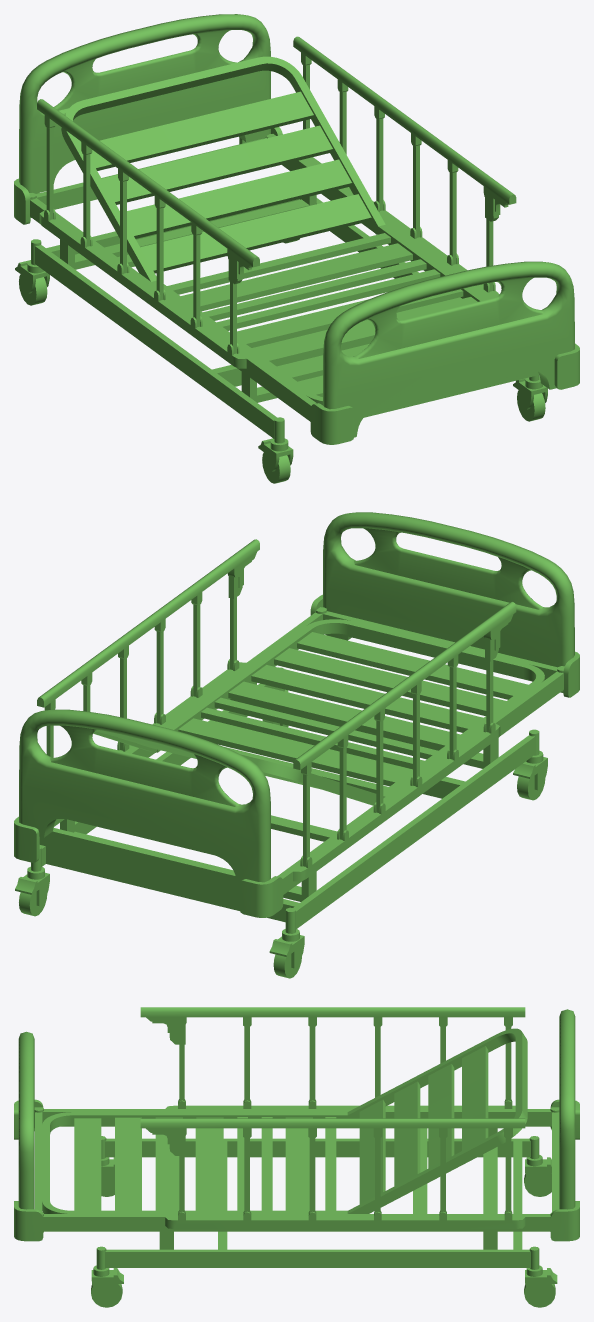
Rendered from SM_HospitalBed_02g.FBX.
3 renders of one model, top to bottom at view 1: azimuth 30°, elevation 25°; view 2: azimuth 150°, elevation 25°; view 3: azimuth 270°, elevation 25°, orthographic. The views are drawn at different scales.
Visible parts, largest first — view 1: SM_HospitalBed_02g_LOD0; view 2: SM_HospitalBed_02g_LOD0; view 3: SM_HospitalBed_02g_LOD0.
Part boxes in pixels (box(x1,y1,x2,y2)): SM_HospitalBed_02g_LOD0: box(14, 14, 579, 483); SM_HospitalBed_02g_LOD0: box(14, 512, 579, 978); SM_HospitalBed_02g_LOD0: box(14, 1007, 579, 1307).
Size of what is drawn, in the model's own units: 109 by 89.09 by 221.
